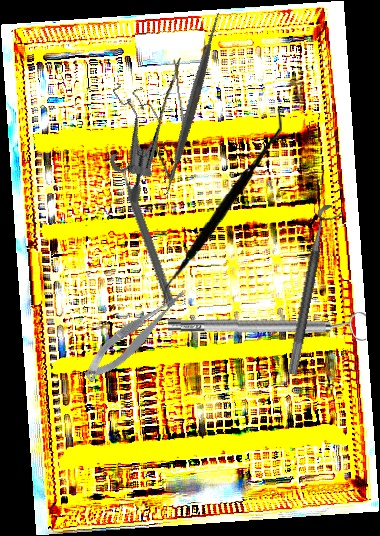Fixation Ring: (108, 147, 188, 309), (286, 203, 345, 378), (167, 307, 367, 344)
Micro Scissor: (75, 285, 197, 386), (143, 57, 198, 180)
Spatula Surgical: (97, 8, 288, 199), (159, 104, 283, 312)
Speculum: (76, 71, 192, 206)
